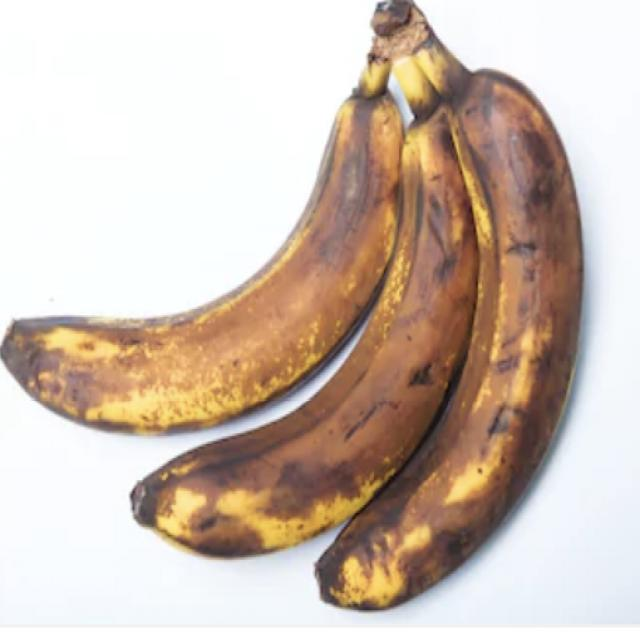rotten-banana: (144, 64, 479, 552), (320, 42, 586, 612), (10, 77, 413, 426)
